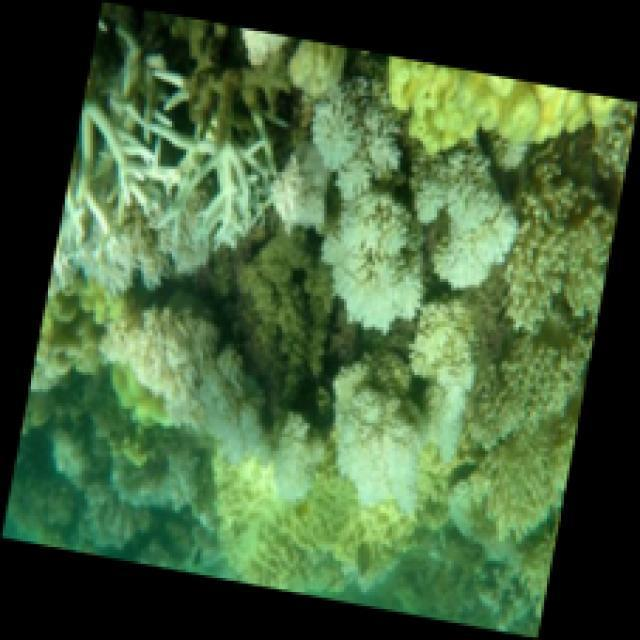Bleached: (51, 30, 281, 298), (114, 302, 327, 509), (334, 304, 491, 516), (414, 147, 525, 292), (326, 195, 425, 335), (312, 81, 403, 200), (274, 136, 328, 236), (492, 136, 532, 175)
Healthy: (389, 55, 625, 153)
